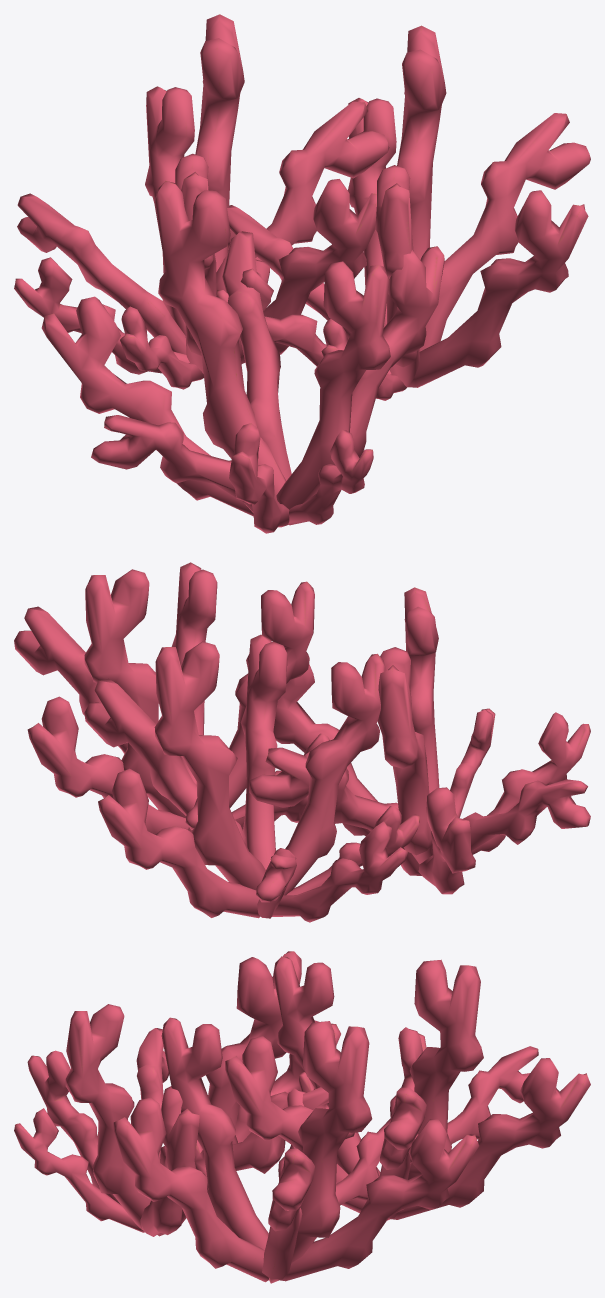
The model's file is korallen2.glb.
3 views of the same model, one above another, from view 1: azimuth 30°, elevation 25°; view 2: azimuth 150°, elevation 25°; view 3: azimuth 270°, elevation 25° (orthographic). The views are drawn at different scales.
Visible parts, largest first — view 1: node_id61, node_id53, node_id45; view 2: node_id45, node_id61, node_id53; view 3: node_id53, node_id45, node_id61.
Boxes of the visible parts, x1,y1,x2,y2 form: node_id61: (41,181,444,533); node_id53: (216,25,590,400); node_id45: (14,14,389,389); node_id45: (84,634,419,922); node_id61: (246,587,590,894); node_id53: (14,562,329,834); node_id53: (113,1017,479,1283); node_id45: (225,956,590,1220); node_id61: (14,951,354,1236).
Bounding box in the file's own units: 0.8497 × 0.5101 × 0.8382.
Materials: 3 (3 with a texture image).
